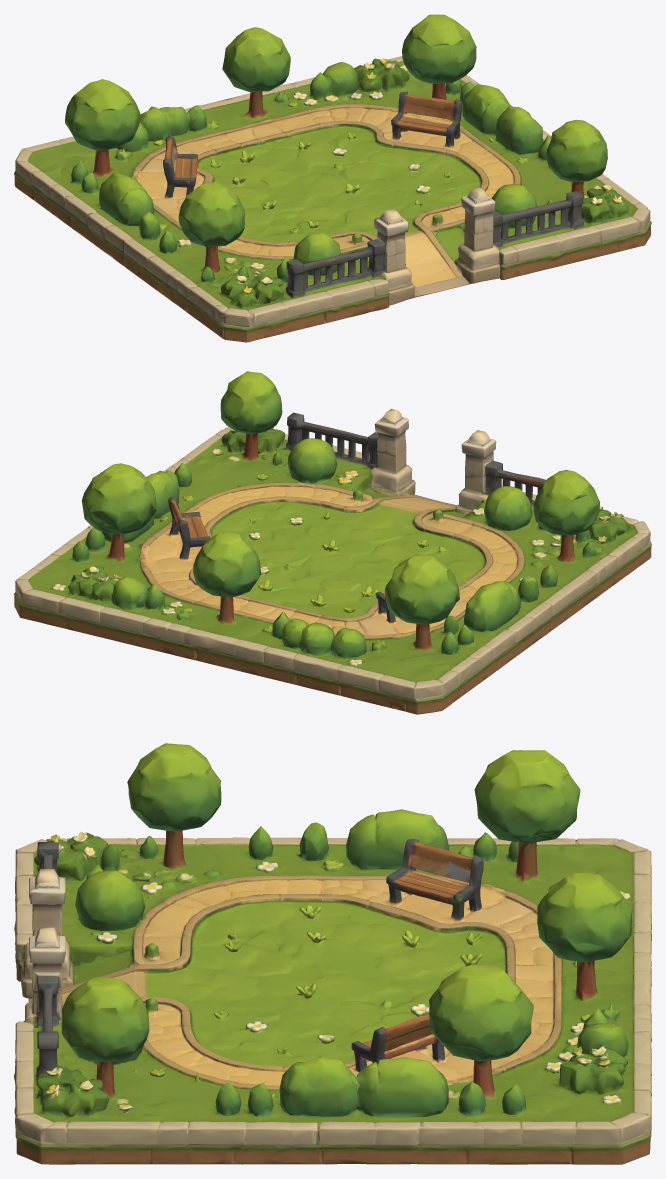
The model's file is park.glb.
3 views of the same model, one above another, from view 1: azimuth 30°, elevation 25°; view 2: azimuth 150°, elevation 25°; view 3: azimuth 270°, elevation 25° (orthographic). The views are drawn at different scales.
Parts seen in each view (by area): view 1: tripo_node_44a8ba27-cc5b-4796-9cd0-686414d84e33; view 2: tripo_node_44a8ba27-cc5b-4796-9cd0-686414d84e33; view 3: tripo_node_44a8ba27-cc5b-4796-9cd0-686414d84e33.
Part boxes in pixels (bbox=[...]): tripo_node_44a8ba27-cc5b-4796-9cd0-686414d84e33: bbox=[14, 14, 651, 342]; tripo_node_44a8ba27-cc5b-4796-9cd0-686414d84e33: bbox=[14, 371, 651, 714]; tripo_node_44a8ba27-cc5b-4796-9cd0-686414d84e33: bbox=[14, 743, 651, 1164].
Size of the model in its own units: 1 by 0.2514 by 0.9244.
1 material, 1 textured.
